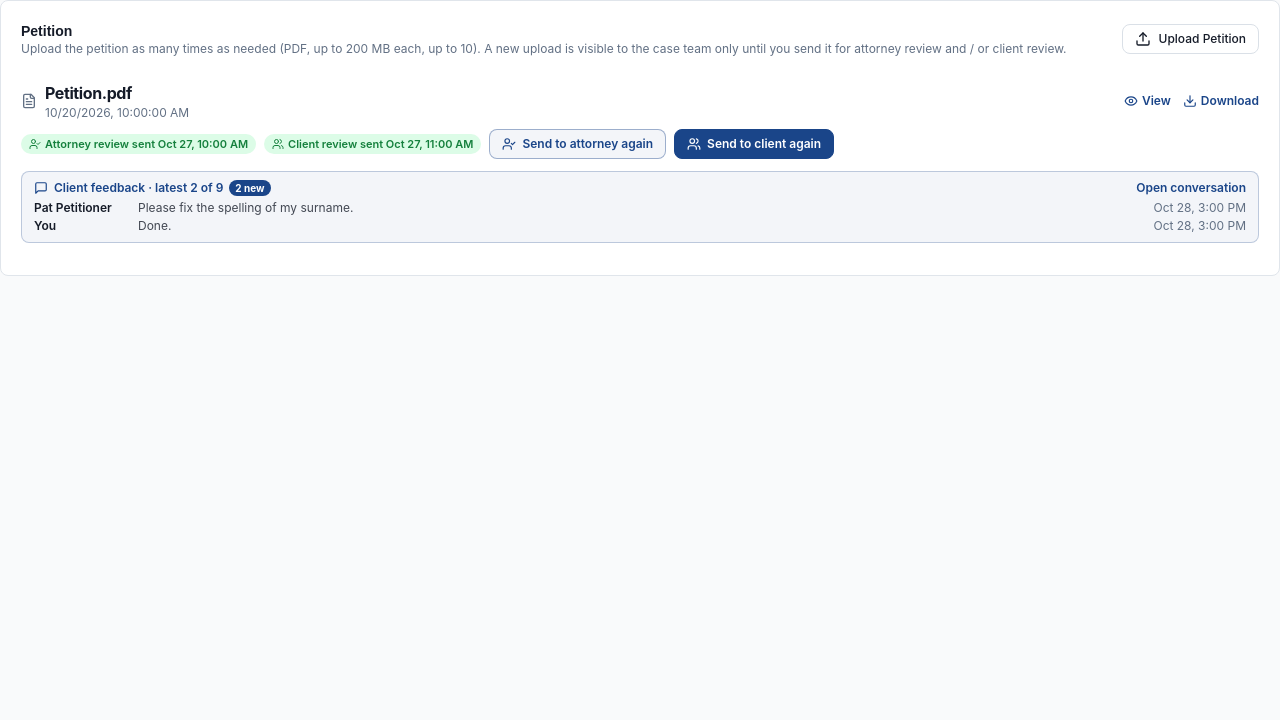
Test: PetitionUploadPanel › once released to the client the row shows the client's latest feedback in the same block, with the unread count; it opens into the conversation
The image size is (1280, 720).
Expected: the text "Please fix the spelling of my surname." is shown, 138,200 -> 353,215
Expected: the text "Pat Petitioner" is shown, 34,200 -> 112,215
Click the button with aria-label "Open the feedback conversation for Petition.pdf".
click(100, 188)  # box 21,171 -> 1259,243
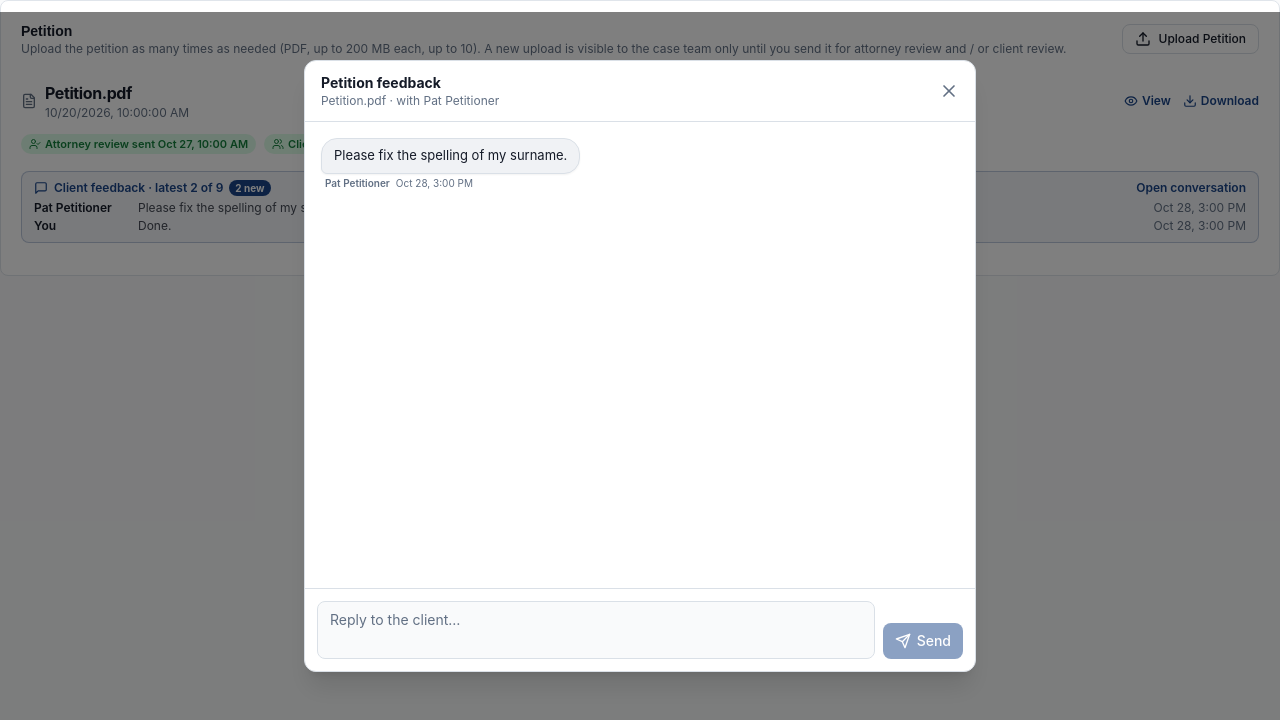
Expected: the text "Please fix the spelling of my surname." is shown, 321,138 -> 580,174
